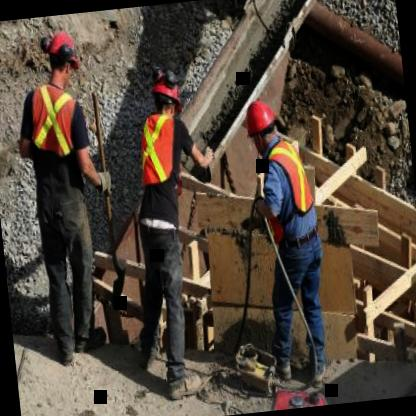helmet: (43, 24, 83, 86), (243, 95, 286, 149), (144, 64, 184, 122)
